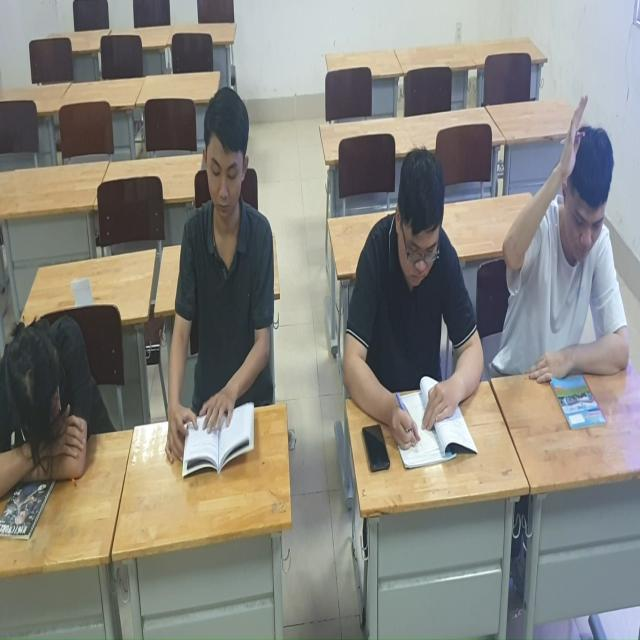raise_hand: (500, 86, 640, 400)
read: (167, 68, 289, 471), (345, 140, 491, 467)
sleep: (1, 311, 103, 501)
